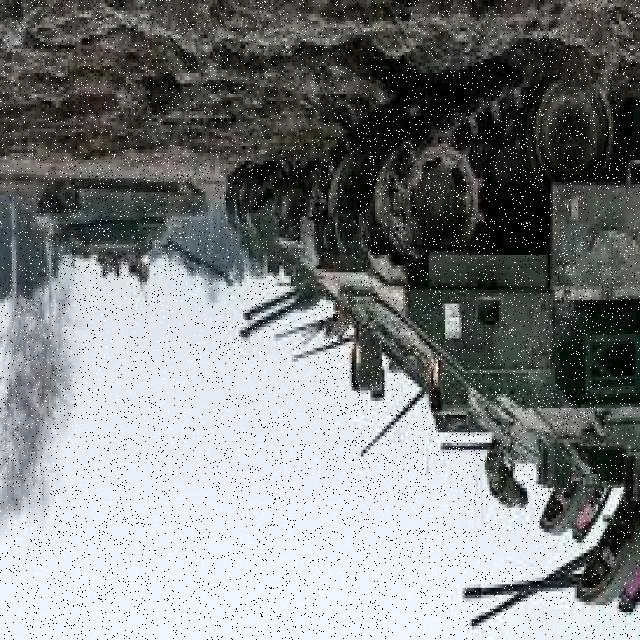MIL_MBT: (324, 109, 621, 497), (227, 151, 361, 288), (36, 173, 202, 277)
